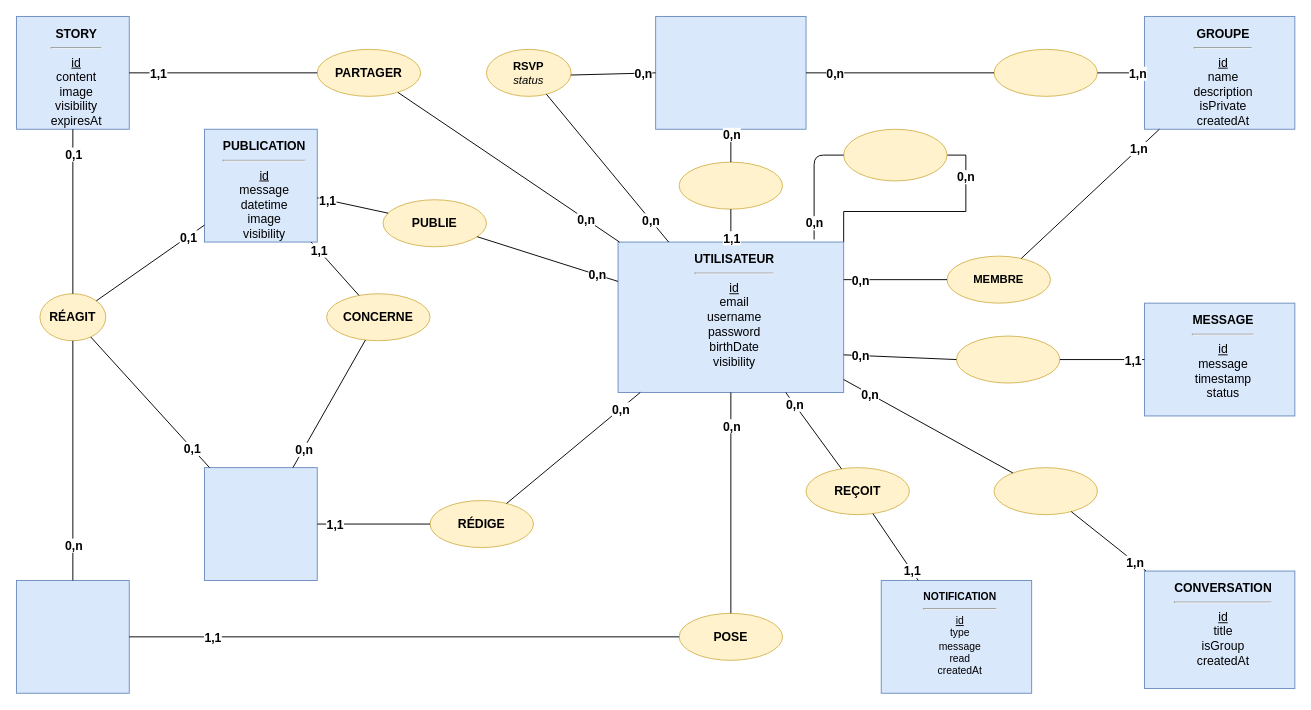
This 1311x710 diagram has some shape labels left out. The centre of each missing label's shape, as x and y in pixels:
"APPARTIENT" belongs at point (1045, 72).
"COMMENTAIRE id content datetime" belongs at point (260, 523).
"CONNAITRE status" belongs at point (895, 154).
"ENVOIE" belongs at point (1008, 359).
"EVENEMENT id title description date location" belongs at point (730, 72).
"ORGANISE" belongs at point (730, 185).
"REACTION id type" belongs at point (72, 636).
"REJOINDRE" belongs at point (1045, 491).
